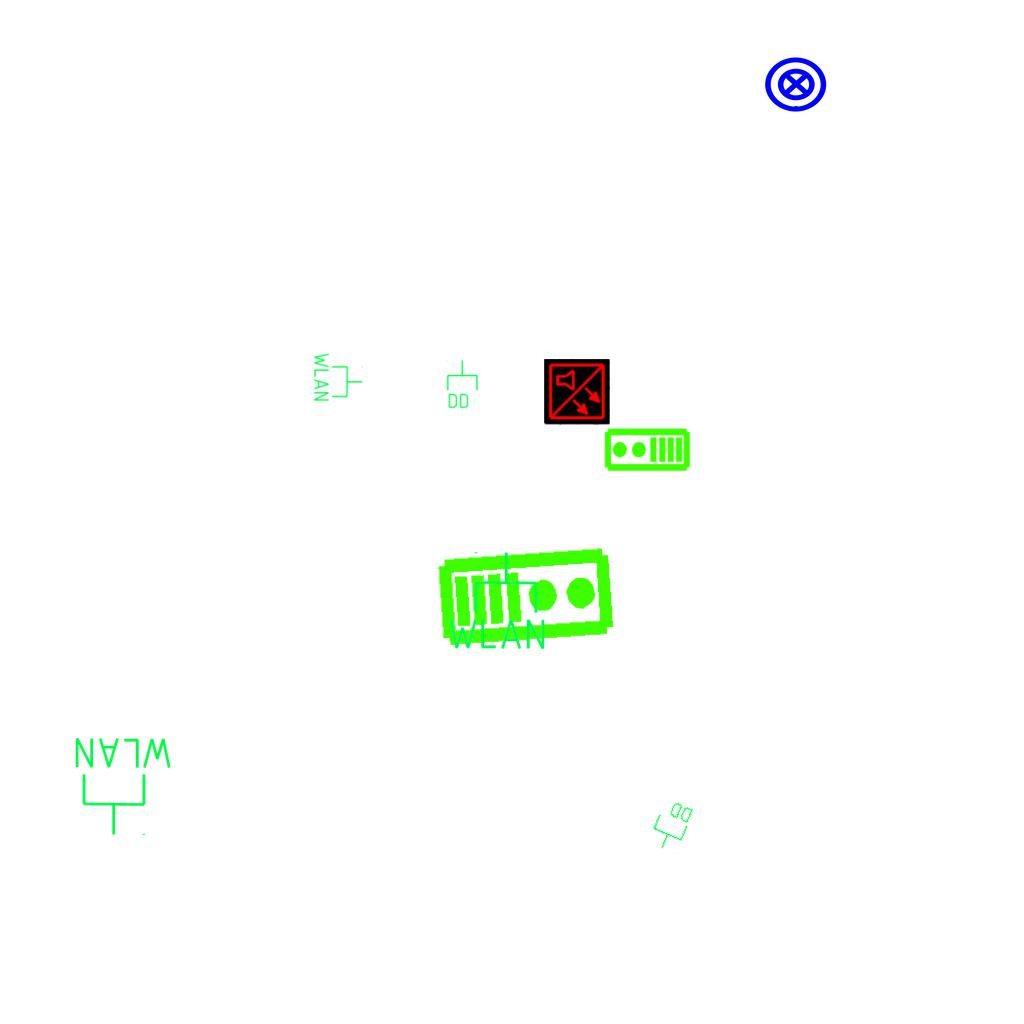Datenanschluss_zweifach: (645, 795, 698, 857), (445, 359, 479, 410)
Gegensprechanlage_mit_Video: (435, 541, 618, 649), (603, 427, 691, 474)
OKW_Multisensormelder_(Kombination_optischer_Rauch-Kahlenmonoxid_Waerme-Melder): (544, 359, 610, 425)
Taster_beleuchtet: (763, 51, 829, 117)
WLAN: (71, 734, 176, 838), (444, 549, 549, 653), (312, 351, 364, 403)
